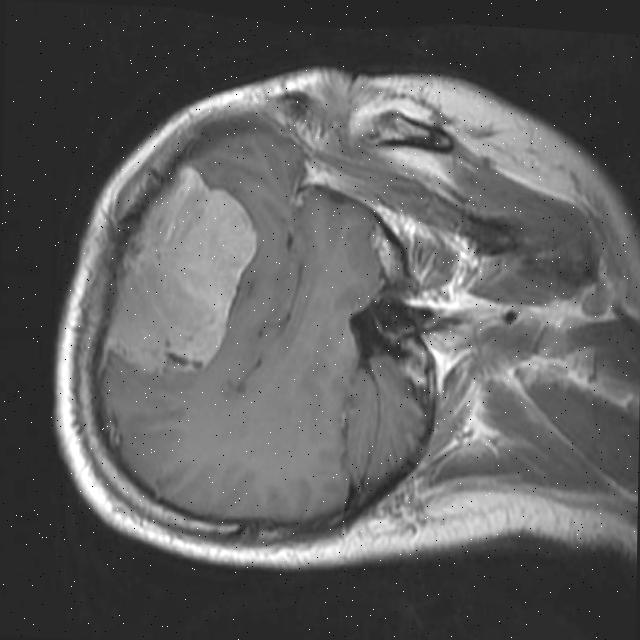Meningioma: (103, 158, 260, 382)
